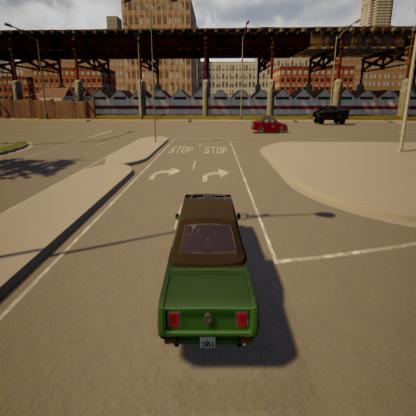Cars: (150, 165, 262, 367), (312, 100, 353, 129), (247, 112, 294, 137)
